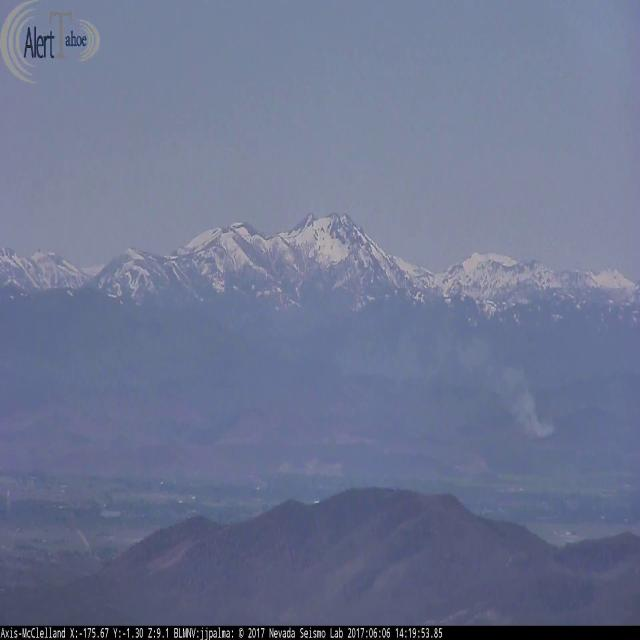smoke: (336, 326, 556, 440)
